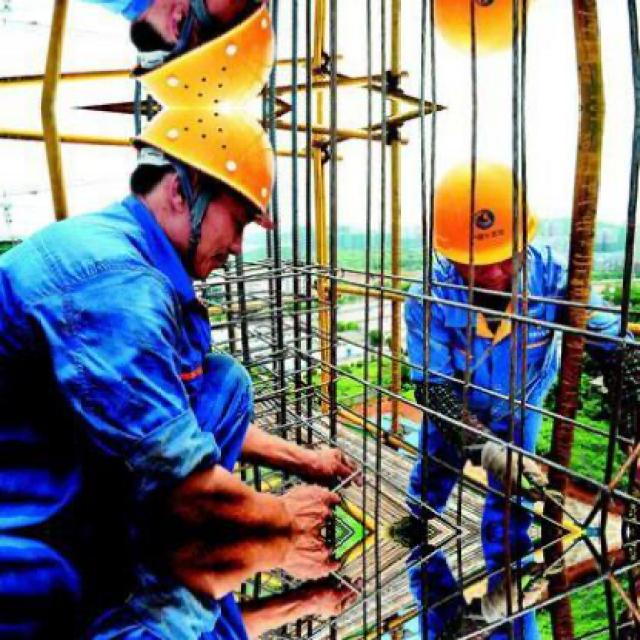helmet: (120, 108, 292, 279), (120, 0, 294, 109), (422, 145, 532, 307), (421, 0, 533, 72)
